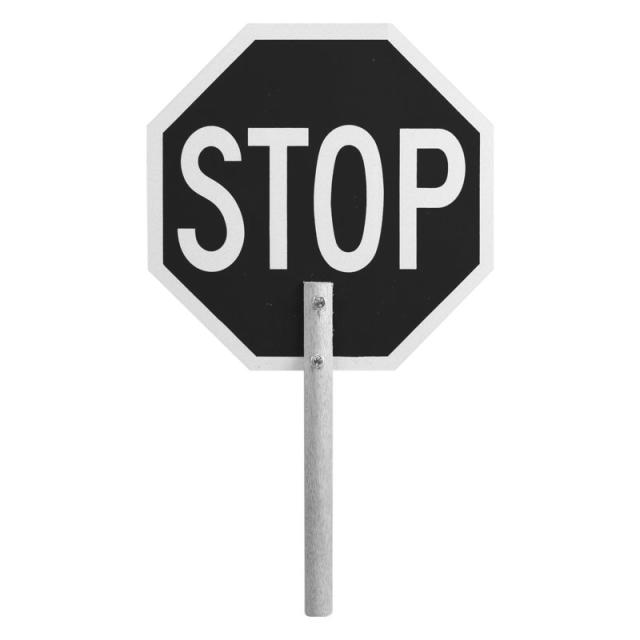Stop-sign: (139, 11, 501, 374)
